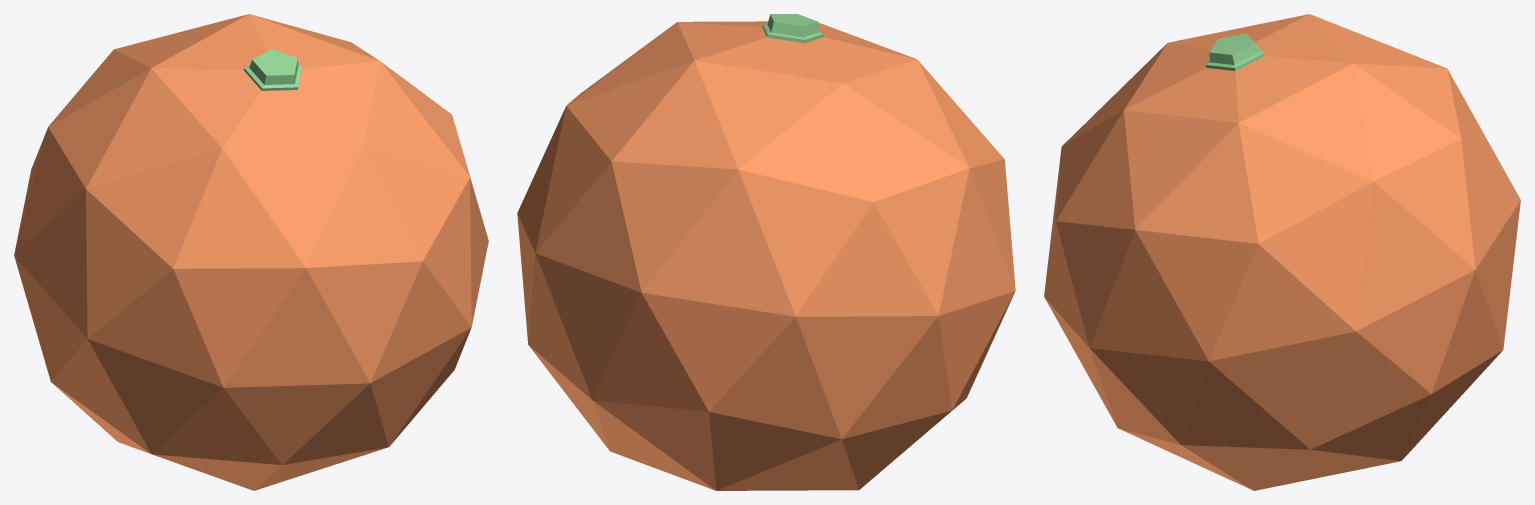
File: orange.glb
3 renders of one model, left to right at view 1: azimuth 30°, elevation 25°; view 2: azimuth 150°, elevation 25°; view 3: azimuth 270°, elevation 25°, orthographic. The views are drawn at different scales.
Visible parts, largest first — view 1: node-0; view 2: node-0; view 3: node-0.
Part boxes in pixels (<box>): node-0: <box>14,14,488,490</box>; node-0: <box>517,14,1015,490</box>; node-0: <box>1044,14,1520,490</box>.
Bounding box in the file's own units: 10.09 × 9.97 × 10.36.
